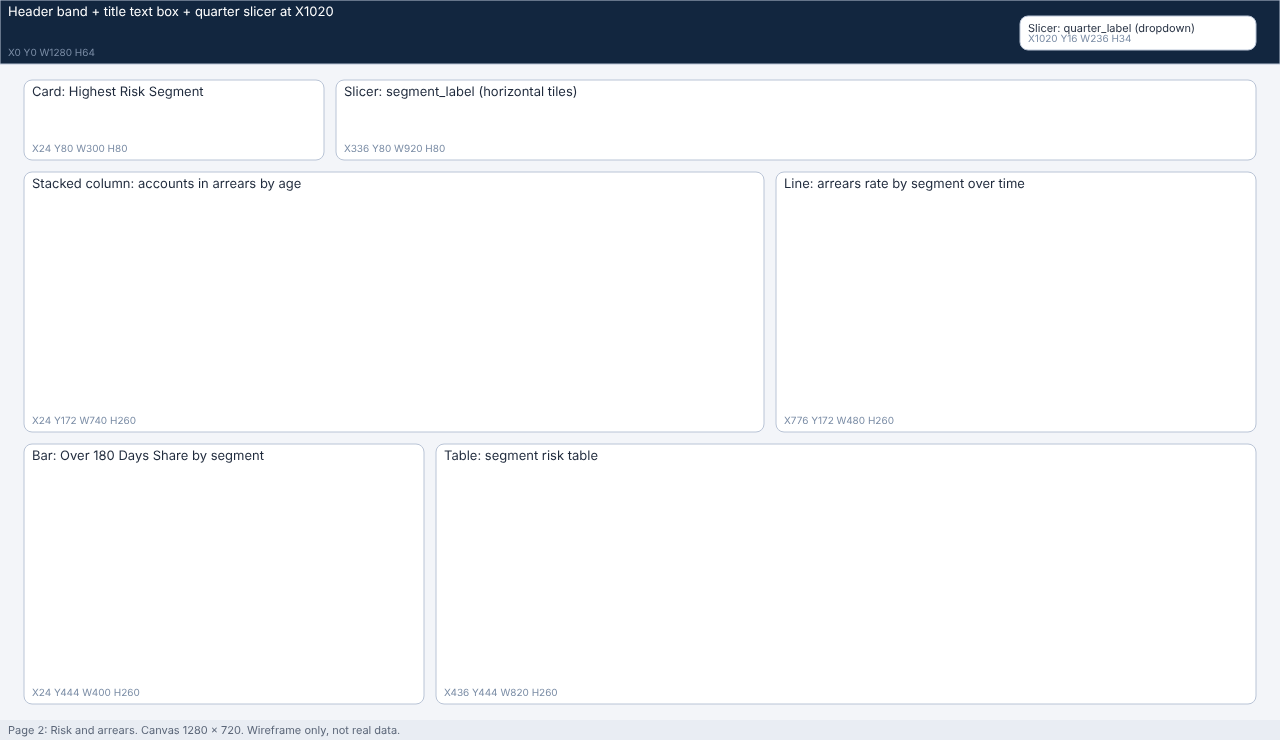

This screenshot's page, from the dashboard's own definition file:
{"tool":"powerbi","page":{"name":"Risk and arrears","canvas":[1280,720],"ordinal":1},"visuals":[{"type":"textbox","box":[0,0,1280,64],"z":0},{"type":"cardVisual","fields":{"Data":["_Measures.Highest Risk Segment"]},"box":[24,80,300,80],"z":1},{"type":"slicer","title":"Filter by segment","fields":{"Values":["dim_segment.segment_label"]},"box":[336,80,920,80],"z":2},{"type":"columnChart","title":"Accounts in arrears by age","fields":{"Category":["dim_date.quarter_label"],"Series":["dim_measure.harmonised_bucket"],"Y":["_Measures.Accounts in Arrears by Bucket"]},"box":[24,172,740,260],"z":3},{"type":"lineChart","title":"Arrears rate over time (accounts)","fields":{"Category":["dim_date.quarter_label"],"Y":["_Measures.Arrears Rate (Accounts)"]},"box":[776,172,480,260],"z":4},{"type":"clusteredBarChart","title":"Over 180 days share by segment","fields":{"Category":["dim_segment.segment_label"],"Y":["_Measures.Over 180 Days Share"]},"box":[24,444,400,260],"z":5},{"type":"tableEx","title":"Segment risk table","fields":{"Values":["dim_segment.segment_label","_Measures.Arrears Rate (Accounts)","_Measures.Segment Risk Rank","_Measures.QoQ Change Arrears Rate (pp)","_Measures.Over 180 Days Share","_Measures.Outstanding Balance (EUR bn)","_Measures.Share of Total Outstanding Balance"]},"box":[436,444,820,260],"z":6},{"type":"slicer","title":"Accounts in arrears by age","fields":{"Values":["dim_date.quarter_label"]},"box":[1020,12,236,40],"z":50}]}

Visuals, with their boxes in screenshot pixels (x1, y1, x2, y2), scaled from the page's 1280x720 canvas onto the 1280x740 screenshot:
textbox: l=0, t=0, r=1279, b=66
cardVisual - _Measures.Highest Risk Segment: l=24, t=82, r=324, b=164
"Filter by segment" slicer: l=336, t=82, r=1256, b=164
"Accounts in arrears by age" columnChart: l=24, t=177, r=764, b=444
"Arrears rate over time (accounts)" lineChart: l=776, t=177, r=1256, b=444
"Over 180 days share by segment" clusteredBarChart: l=24, t=456, r=424, b=724
"Segment risk table" tableEx: l=436, t=456, r=1256, b=724
"Accounts in arrears by age" slicer: l=1020, t=12, r=1256, b=53
